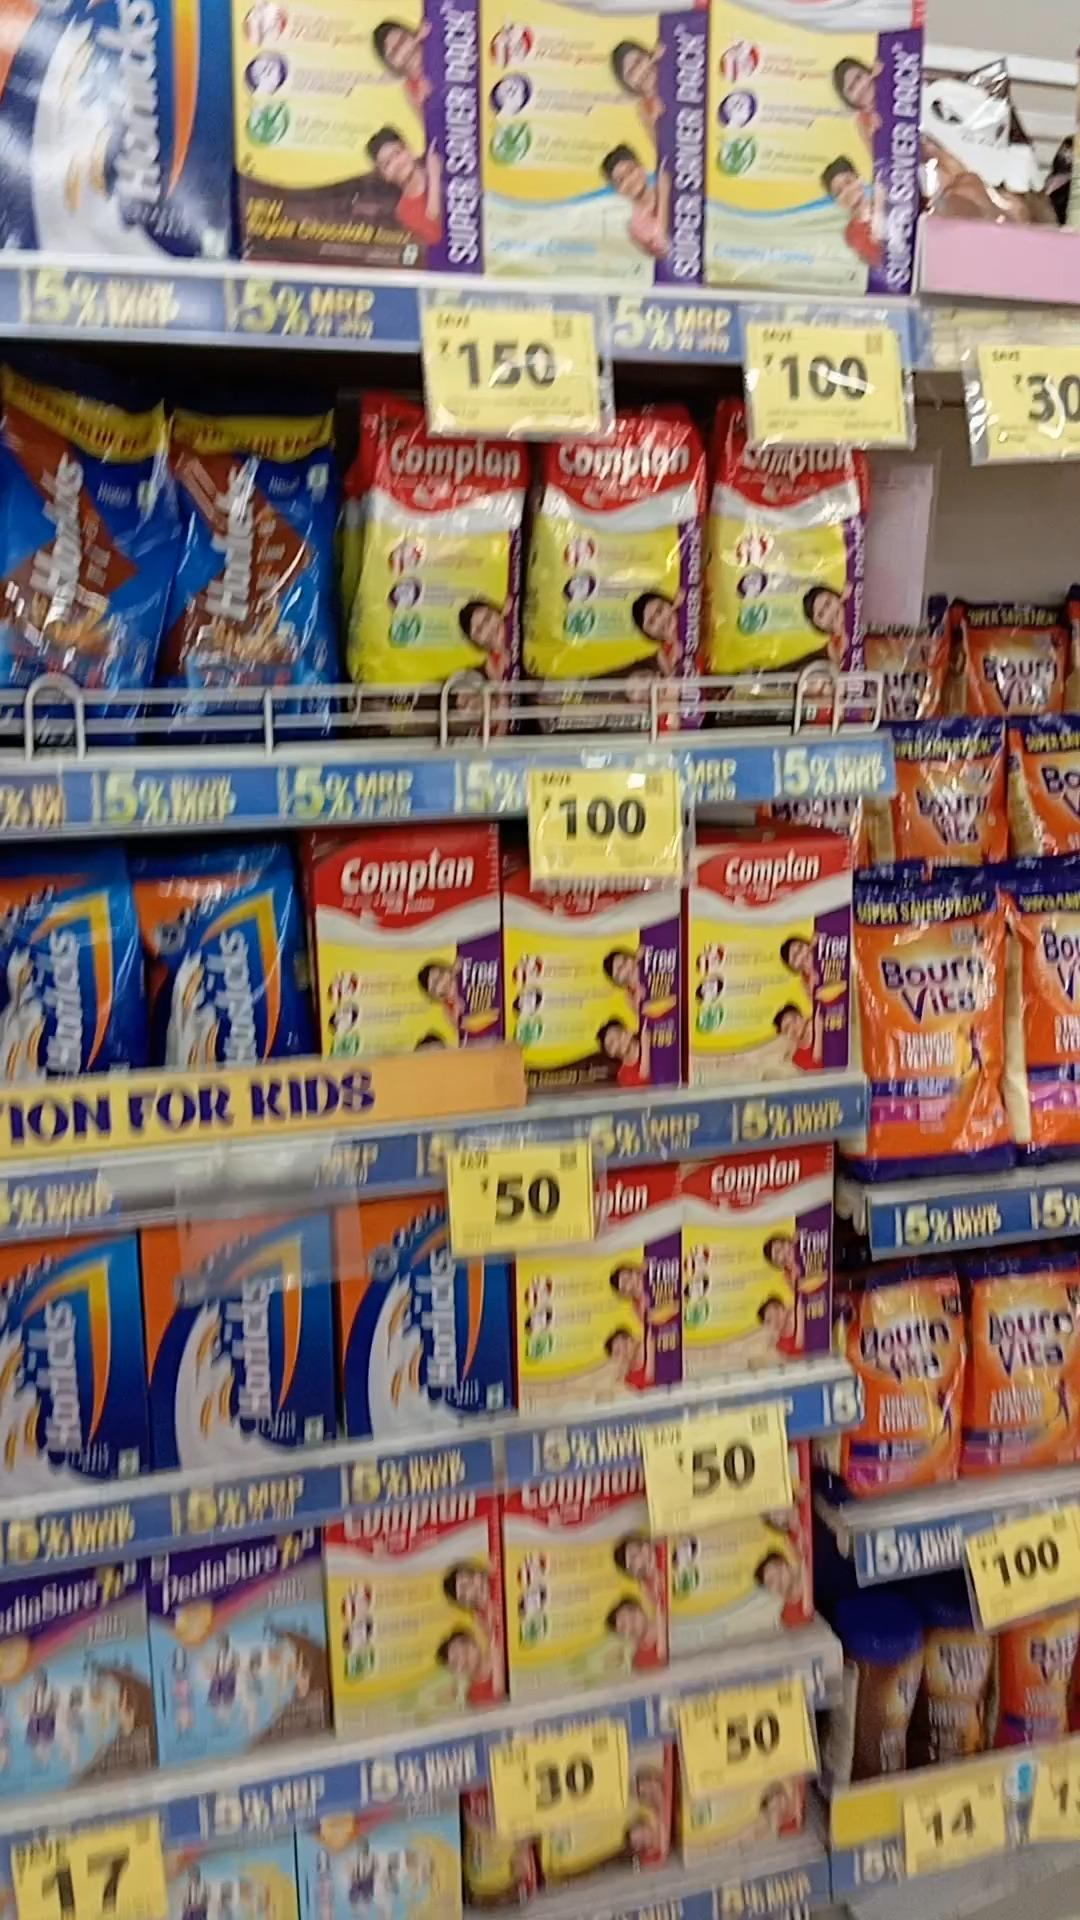BOURN_VITA_1_KG_POUCH: (857, 880, 1009, 1184), (894, 712, 1017, 865)
BOURN_VITA_500_G_JAR: (1009, 1589, 1080, 1745)
BOURN_VITA_750_G_POUCH: (858, 1274, 957, 1489), (978, 1273, 1063, 1474)
BOURN_VITA_FIVE_STAR_MAGIC_500_G_JAR: (919, 1597, 985, 1741)
COMPLAN_CHOCOLATE_1_KG_PACK: (231, 0, 471, 265)
COMPLAN_CHOCOLATE_500_GMS_PACK: (314, 824, 502, 1054), (525, 881, 687, 1096)
COMPLAN_CREAMY_CLASSIC_500_G_PACK: (675, 1528, 814, 1660)
COMPLAN_KESAR_BADAM_500_GMS_PACK: (690, 847, 852, 1085), (508, 1168, 669, 1398), (690, 1156, 833, 1365)
COMPLAN_PISTA_BADAM_500_GMS_PACK: (336, 1501, 500, 1731), (508, 1477, 667, 1681)
COMPLAN_RC_POUCH_700_GMS_12: (542, 423, 698, 735), (368, 419, 520, 736), (724, 409, 876, 715)
HORLICK_CHOCOLATE_750_G_POUCH: (0, 377, 150, 721), (164, 402, 316, 720)
HORLICK_CLASSIC_MALT_500_G_PACK: (141, 1207, 310, 1449), (342, 1201, 498, 1431), (0, 1236, 132, 1491)
HORLICK_CLASSIC_MALT_750_G_POUCH: (144, 853, 284, 1069), (0, 864, 129, 1080)
PEDIASURE_7_PLUS_CHOCOLATE_400_G_PACK: (154, 1534, 330, 1746), (0, 1571, 125, 1787)
